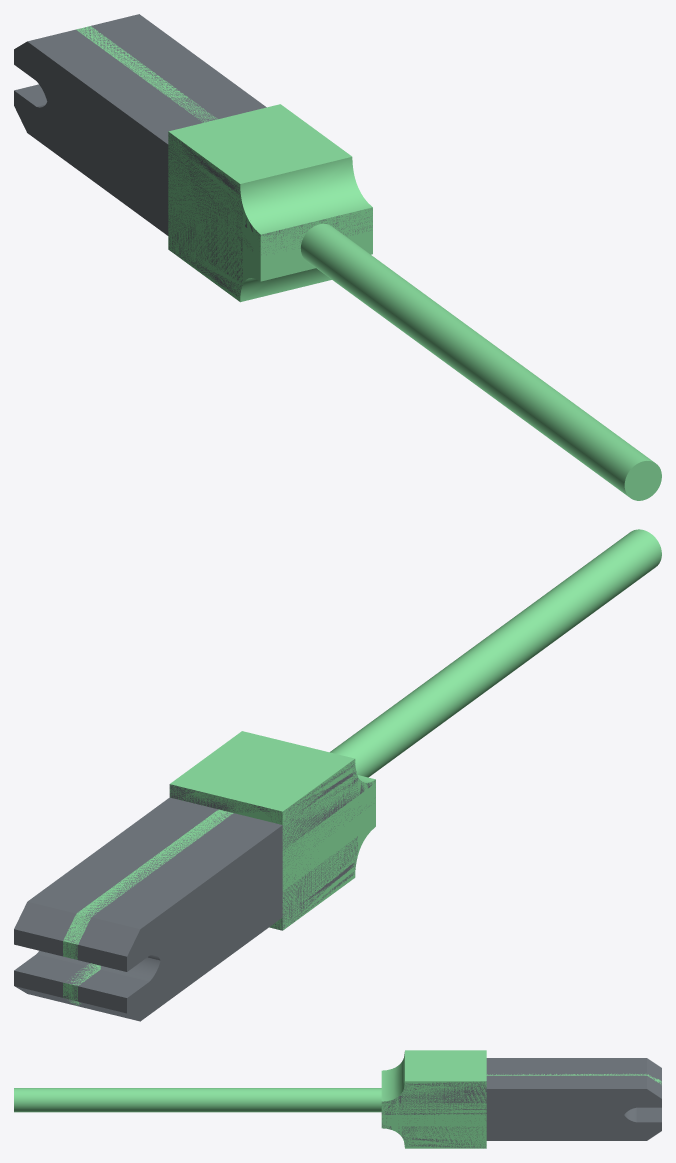
Rendered from soil.glb.
3 views of the same model, one above another, from view 1: azimuth 30°, elevation 25°; view 2: azimuth 150°, elevation 25°; view 3: azimuth 270°, elevation 25° (orthographic). The views are drawn at different scales.
Visible parts, largest first — view 1: Pad002, Mirrored, Pad001, Pocket, Pad, Fillet; view 2: Mirrored, Pad002, Pad001, Pocket, Pad; view 3: Pad002, Pocket, Pad001, Mirrored, Pad.
Boxes of the visible parts, x1=… form: Pad002: x1=76, y1=26, x2=661, y2=500; Mirrored: x1=14, y1=15, x2=265, y2=297; Pad001: x1=168, y1=104, x2=372, y2=302; Pocket: x1=76, y1=14, x2=266, y2=121; Pad: x1=14, y1=42, x2=372, y2=254; Fillet: x1=260, y1=208, x2=372, y2=280; Mirrored: x1=14, y1=763, x2=357, y2=1021; Pad002: x1=63, y1=529, x2=661, y2=1005; Pad001: x1=169, y1=731, x2=375, y2=930; Pocket: x1=14, y1=784, x2=280, y2=1001; Pad: x1=127, y1=761, x2=375, y2=971; Pad002: x1=14, y1=1060, x2=661, y2=1126; Pocket: x1=382, y1=1078, x2=661, y2=1148; Pad001: x1=381, y1=1050, x2=486, y2=1148; Mirrored: x1=486, y1=1058, x2=661, y2=1122; Pad: x1=381, y1=1089, x2=620, y2=1114.
Size of the model in its own units: 0.003 by 0.00302 by 0.0264.
